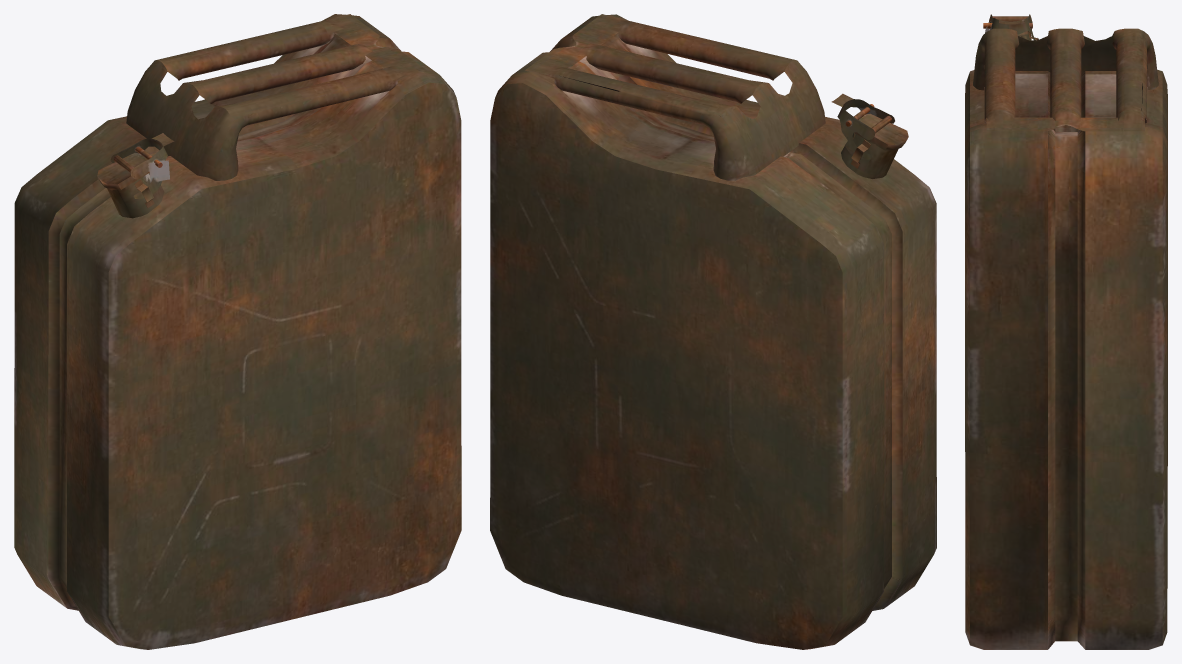
The model's file is jerry_can_04.glb.
3 renders of one model, left to right at view 1: azimuth 30°, elevation 25°; view 2: azimuth 150°, elevation 25°; view 3: azimuth 270°, elevation 25°, orthographic. The views are drawn at different scales.
Visible parts, largest first — view 1: jerry_can_04; view 2: jerry_can_04; view 3: jerry_can_04.
Boxes of the visible parts, <box> form: jerry_can_04: <box>14,14,461,649</box>; jerry_can_04: <box>490,14,936,649</box>; jerry_can_04: <box>965,14,1167,649</box>.
Size of what is drawn, in the model's own units: 0.3432 by 0.47 by 0.1627.
1 material, 1 textured.
